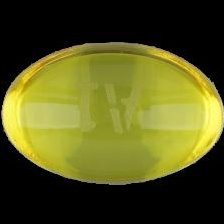16590-031: (0, 0, 224, 224)
